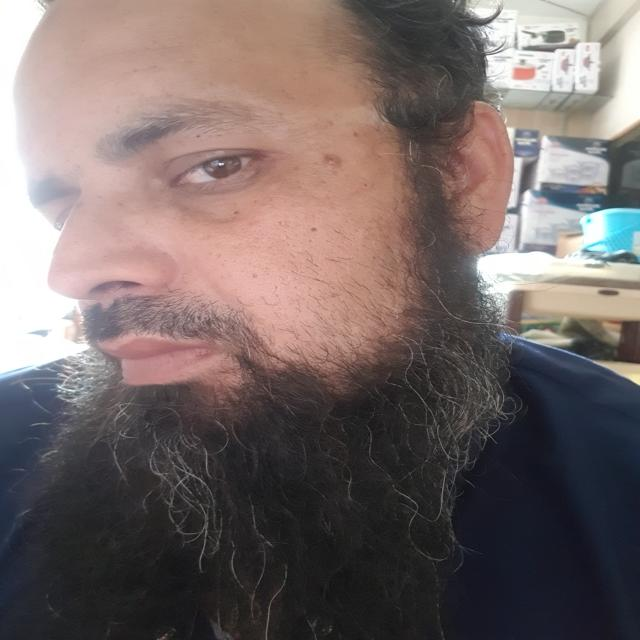Acne: (320, 150, 348, 172)
Englarged-Pores: (233, 226, 331, 288)
Wrinkles: (78, 43, 194, 61), (96, 63, 166, 87), (214, 193, 302, 202)
